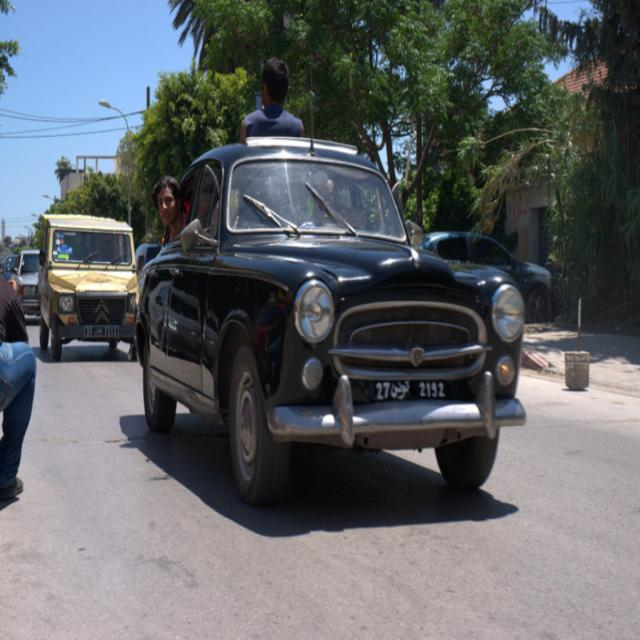car: (135, 72, 526, 504)
